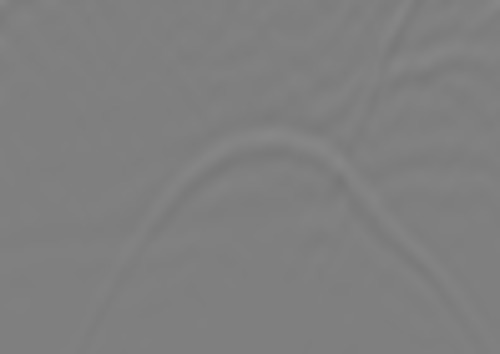hyperbola: (95, 116, 443, 321)
